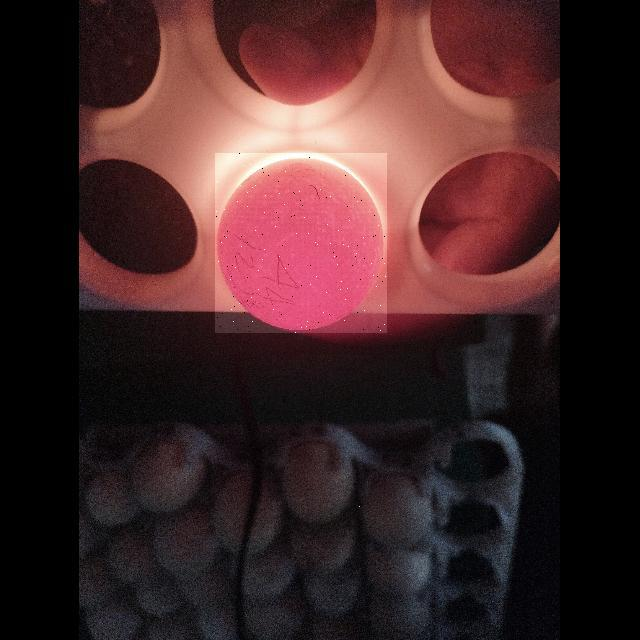Infertile: (215, 153, 387, 333)
